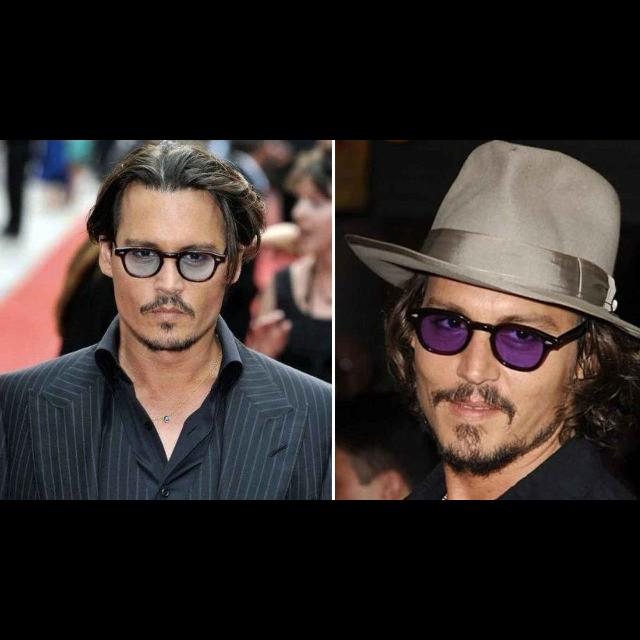Sunglasses: (408, 307, 586, 369)
glasses: (110, 241, 232, 281)
